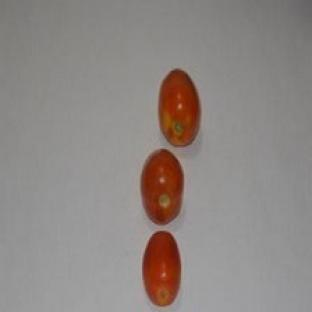Tomato: (159, 69, 200, 146), (141, 150, 183, 224), (143, 232, 181, 306)
